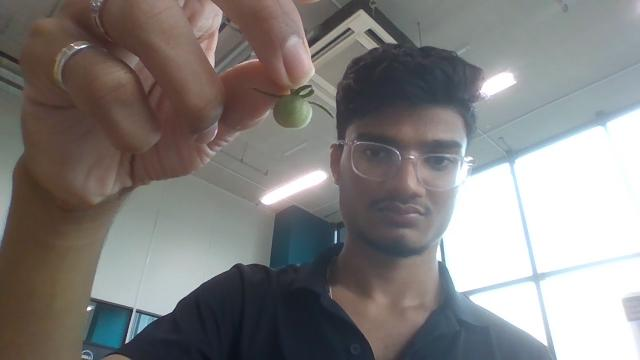Fruit Maturation: (272, 92, 313, 130)
